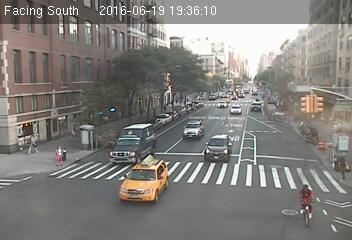neg: (285, 178, 326, 233), (188, 107, 205, 129), (156, 171, 169, 188)
pos: (330, 150, 351, 184), (51, 144, 70, 171), (25, 129, 42, 153)
